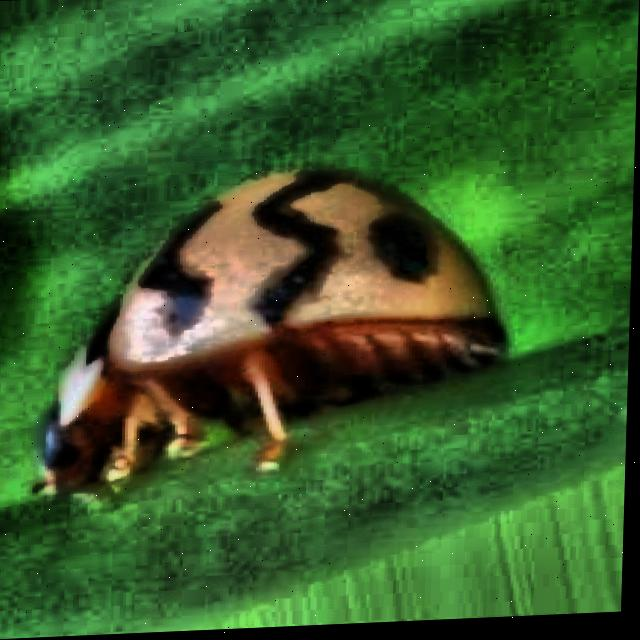Asian-Lady-beetle: (0, 134, 530, 530)
